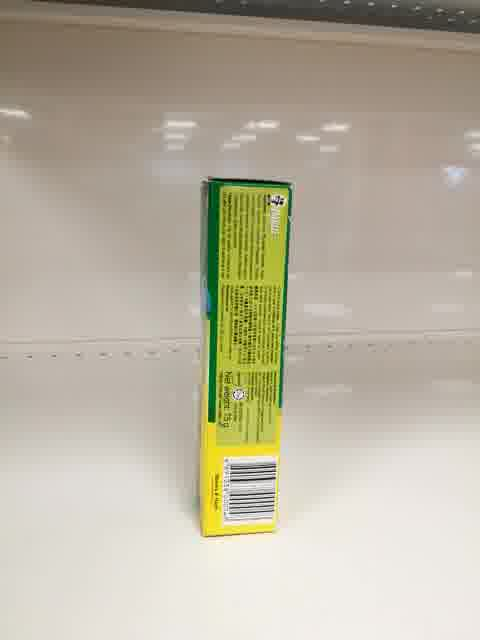toothpaste: (196, 176, 292, 538)
